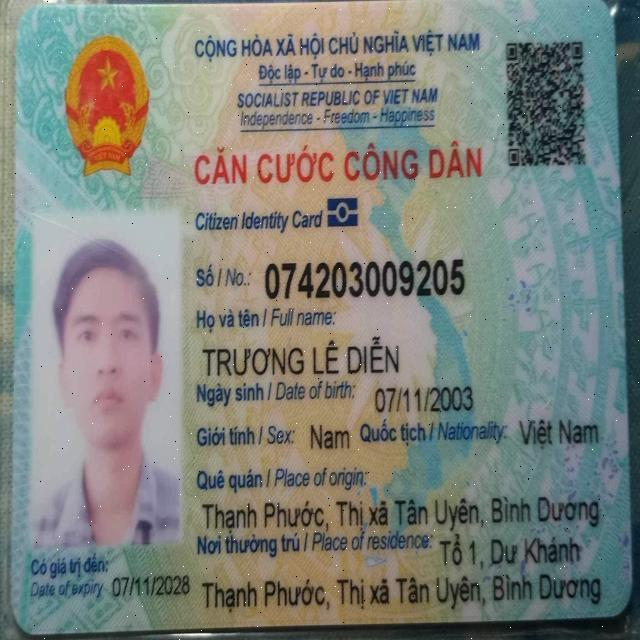current_place: (200, 571, 605, 616), (436, 531, 587, 573)
dob: (372, 378, 477, 418)
expire_date: (108, 568, 194, 604)
gender: (307, 416, 354, 458)
id: (260, 251, 469, 306)
name: (197, 331, 403, 382)
nationality: (515, 412, 603, 455)
origin_place: (197, 491, 603, 533)
